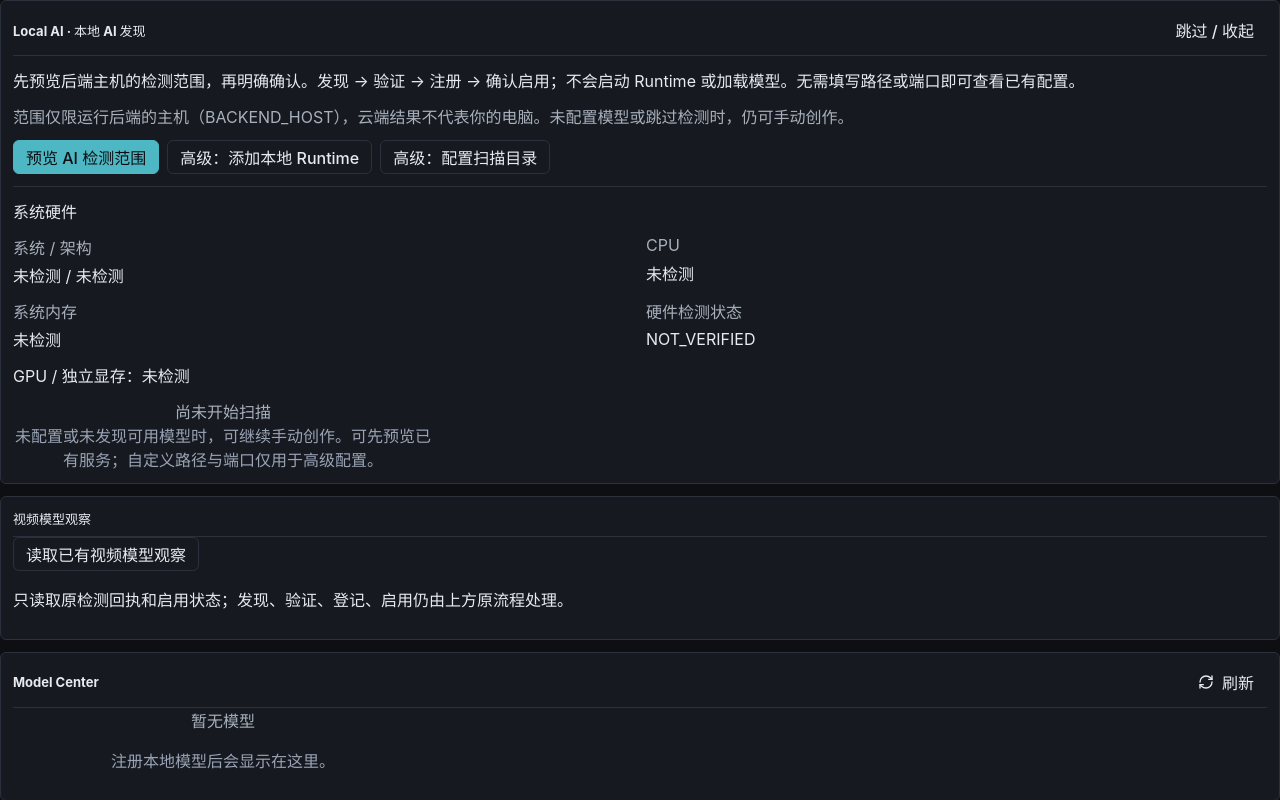
Test case: existing Model Center V2 onboarding integration › propagates a revoked shared health permission while keeping manual use available
Expected: the text "暂无模型" is shown, [191, 711, 255, 731]
Step 1. Click the button "刷新" → (1226, 682), box [1185, 665, 1267, 699]
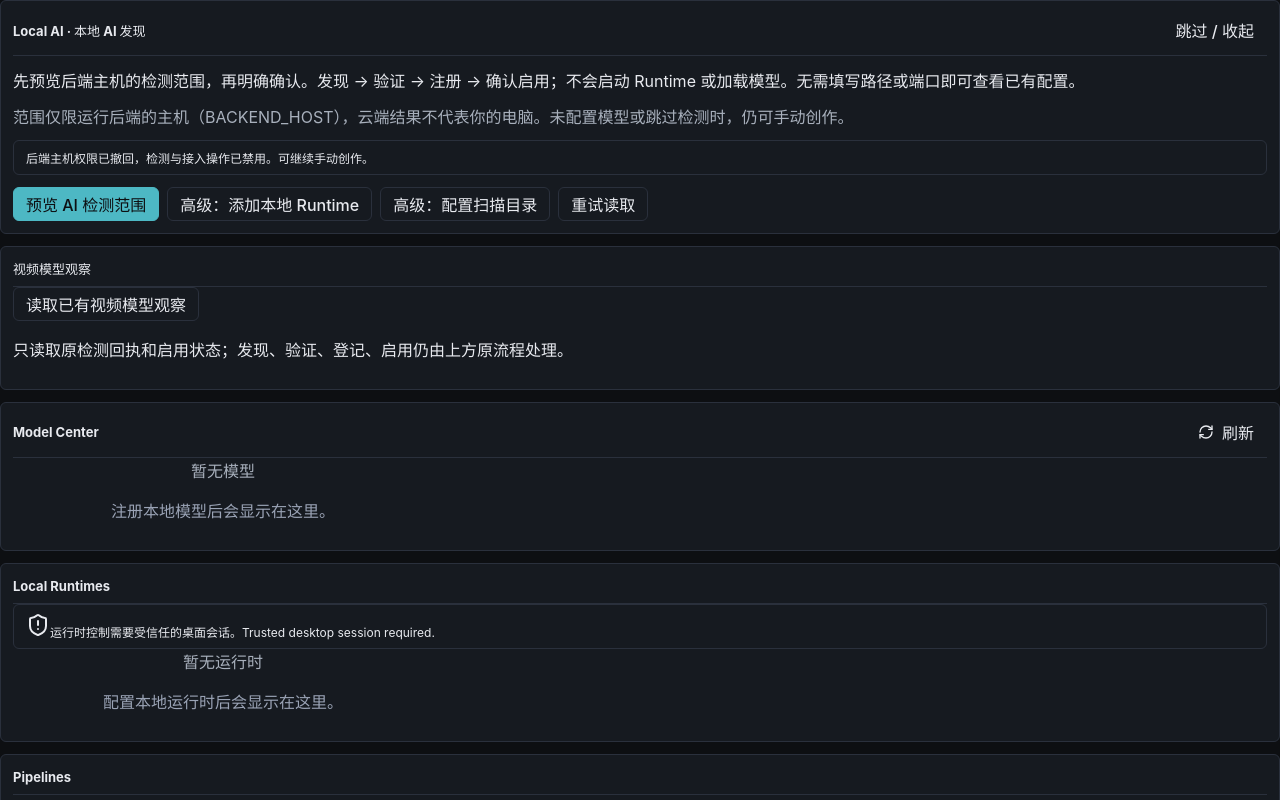
Expected: the text "范围仅限运行后端的主机（BACKEND_HOST），云端结果不代表你的电脑。未配置模型或跳过检测时，仍可手动创作。" is shown, [13, 107, 854, 127]
Expected: the text "后端主机权限已撤回，检测与接入操作已禁用。可继续手动创作。" is shown, [13, 140, 1267, 175]
Expected: the button "预览 AI 检测范围" is disabled, [13, 187, 159, 221]
